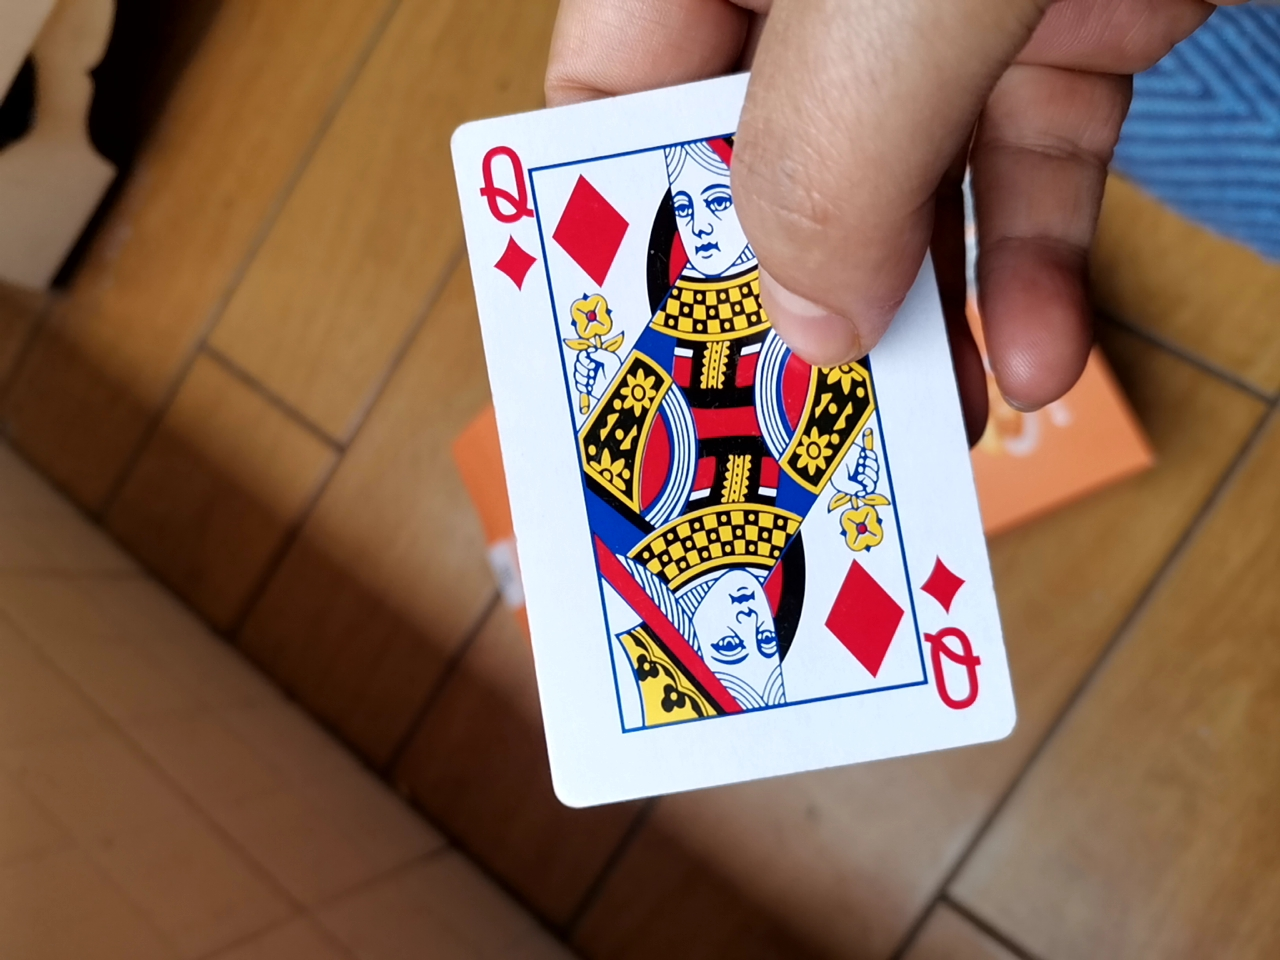fk q: (428, 80, 996, 827)
